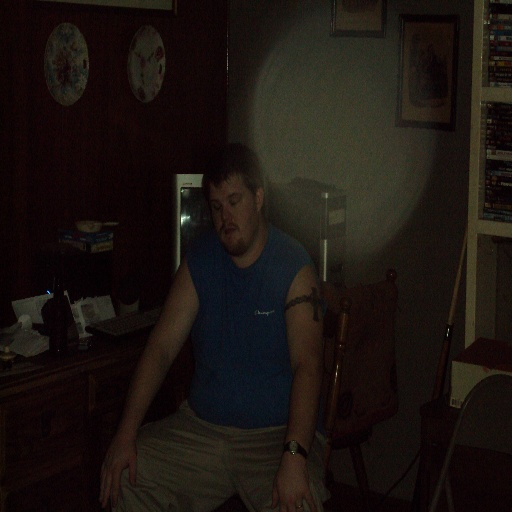hand: (99, 412, 133, 504), (269, 460, 318, 511)
